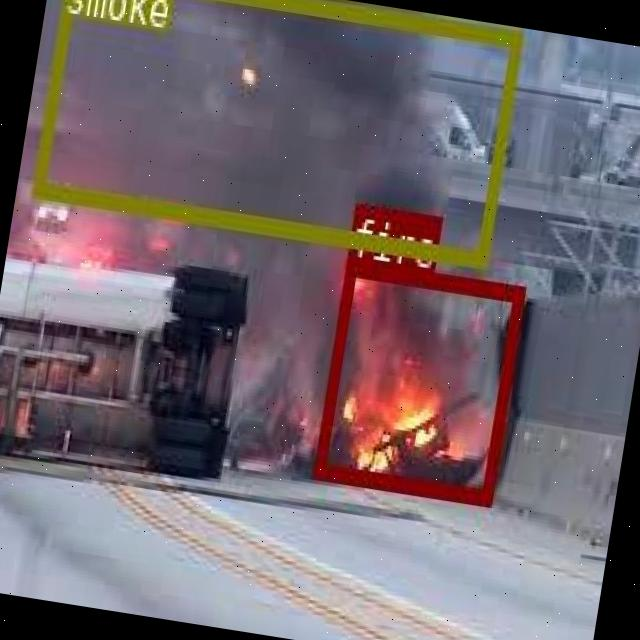fire: (312, 257, 524, 503)
smoke: (32, 0, 521, 265)
